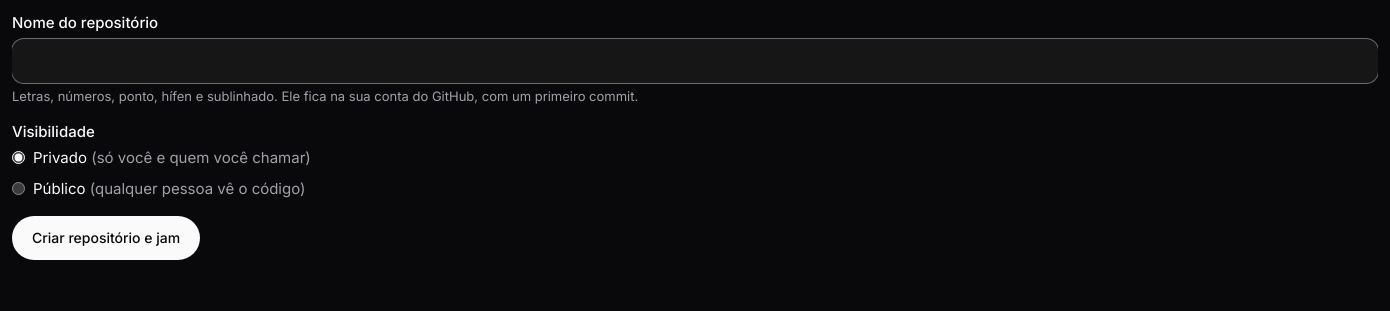
Scenario: criar repositório (Story 2.2) › outro erro (instalação parcial) aparece abaixo do formulário
Type "novo" into the field labelled "Nome do repositório". click: x=695, y=60
box: [12,38,1378,82]
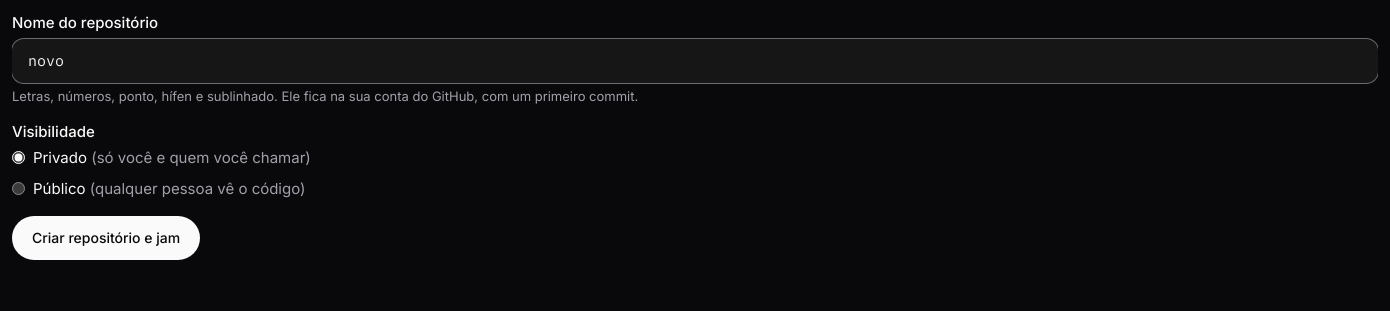
Click the button "Criar repositório e jam". click: x=106, y=238
box: [12,216,200,260]
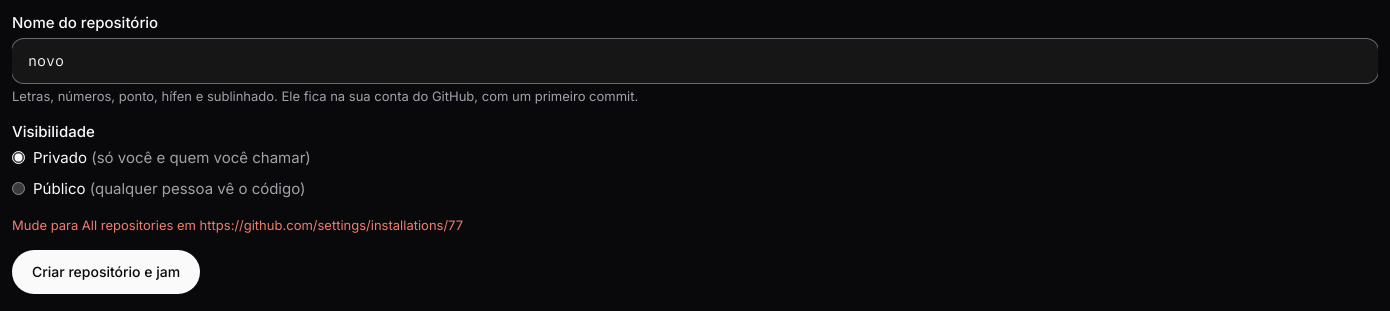
expect the message shows "settings/installations/77": met, box [12,217,463,233]
